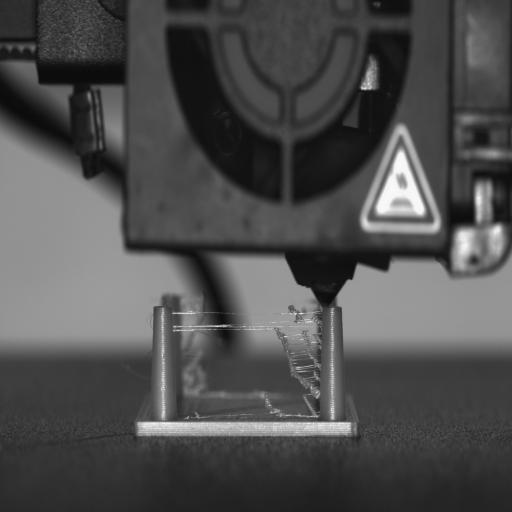spaghetti_and_stringing: (172, 307, 322, 423)
